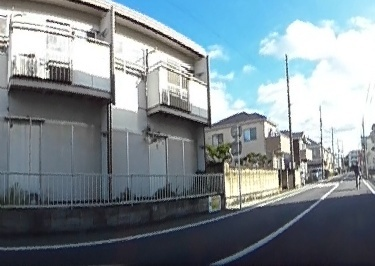person: (353, 159, 362, 190)
